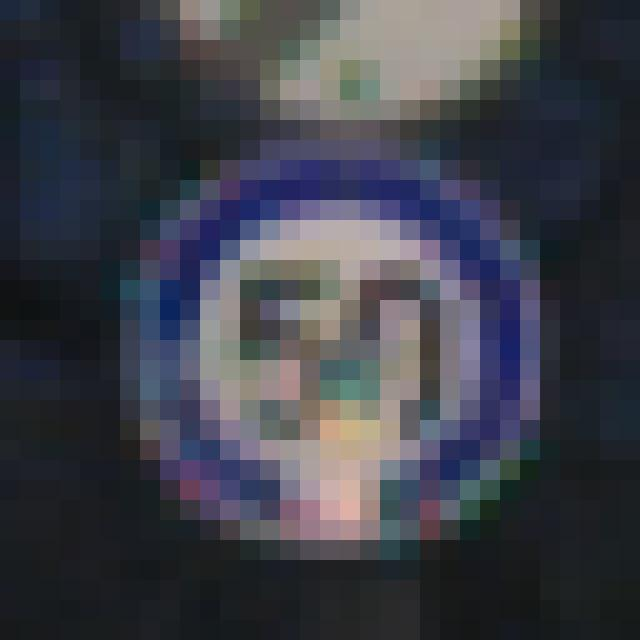SPEED LIMIT 50: (168, 194, 490, 512)
